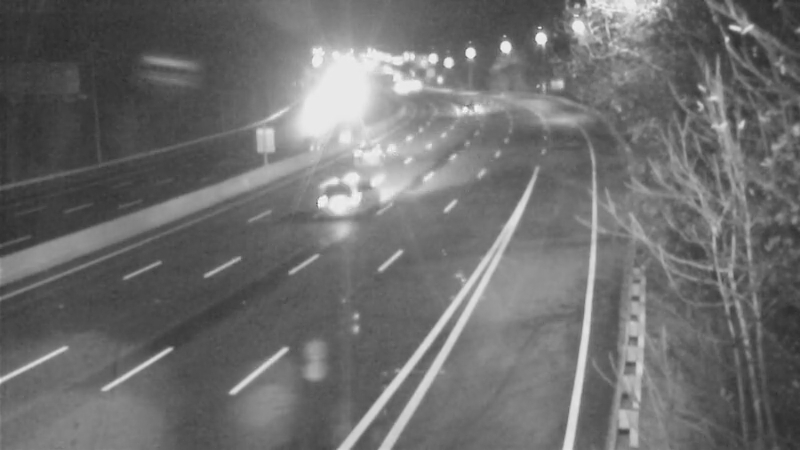vehicle: (309, 149, 389, 229), (374, 65, 424, 115), (442, 81, 492, 131), (343, 124, 393, 174)
